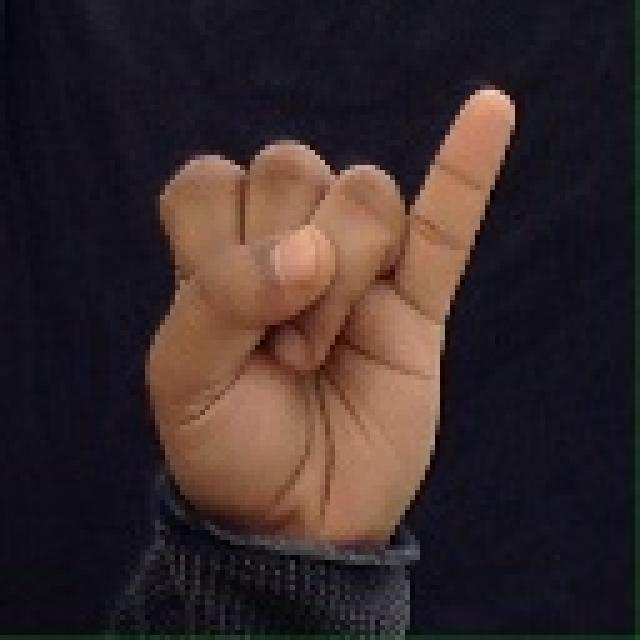Numeric-6: (148, 74, 511, 547)
